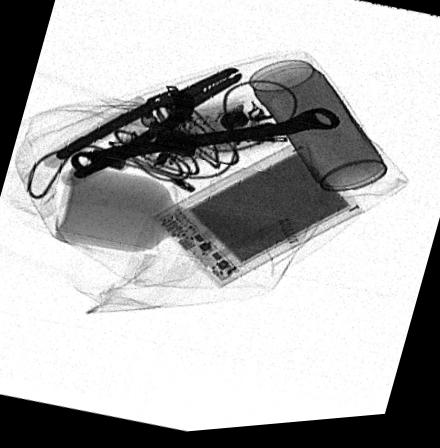Pliers: (54, 69, 243, 181)
Powerbank: (150, 141, 365, 292)
Wrench: (68, 112, 340, 176)
